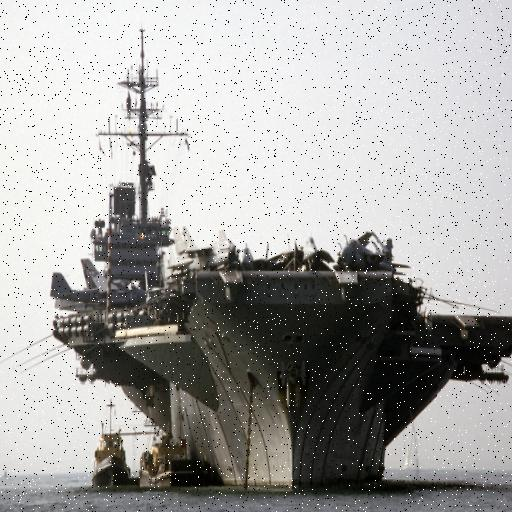Portanaves: (51, 21, 512, 501)
